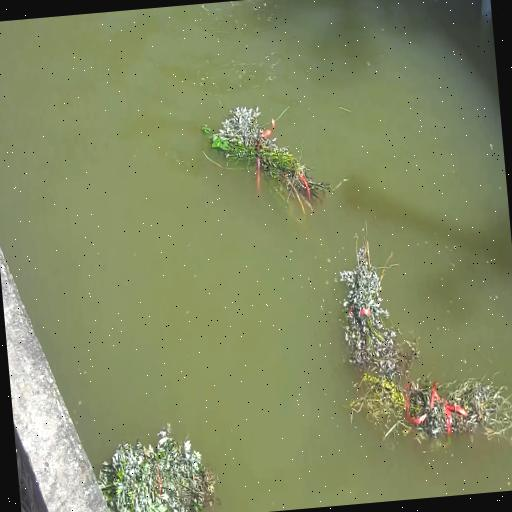twig: (328, 209, 512, 459), (204, 96, 336, 218), (95, 419, 219, 512)
